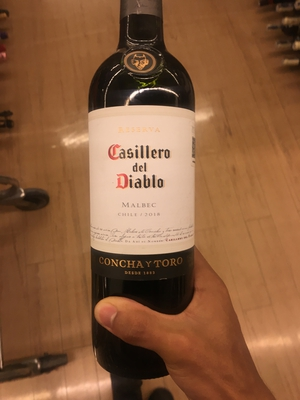casillero del diablo malbec: (76, 1, 206, 370)
